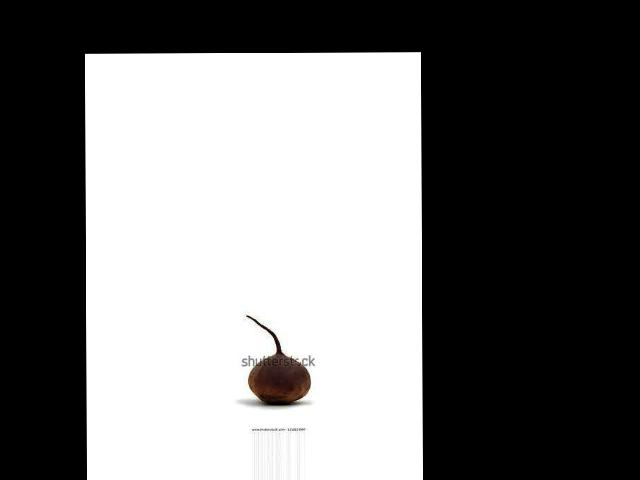beet: (246, 314, 312, 405)
